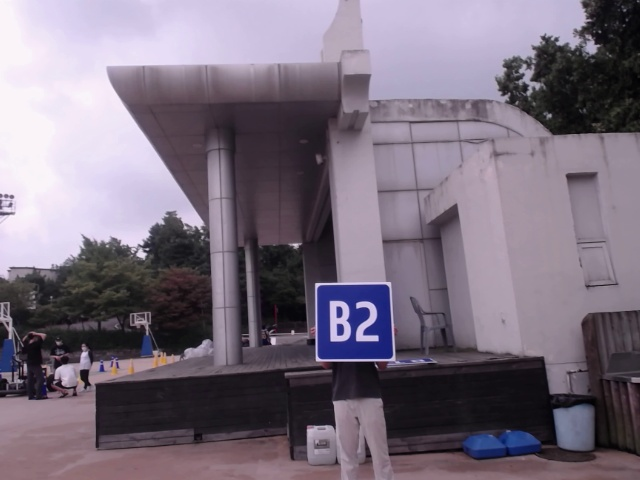delivery_b2: (314, 282, 395, 364)
